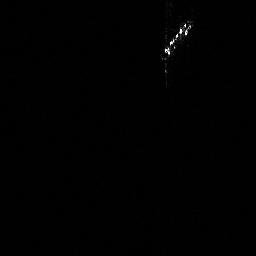ship: (161, 19, 195, 59)
